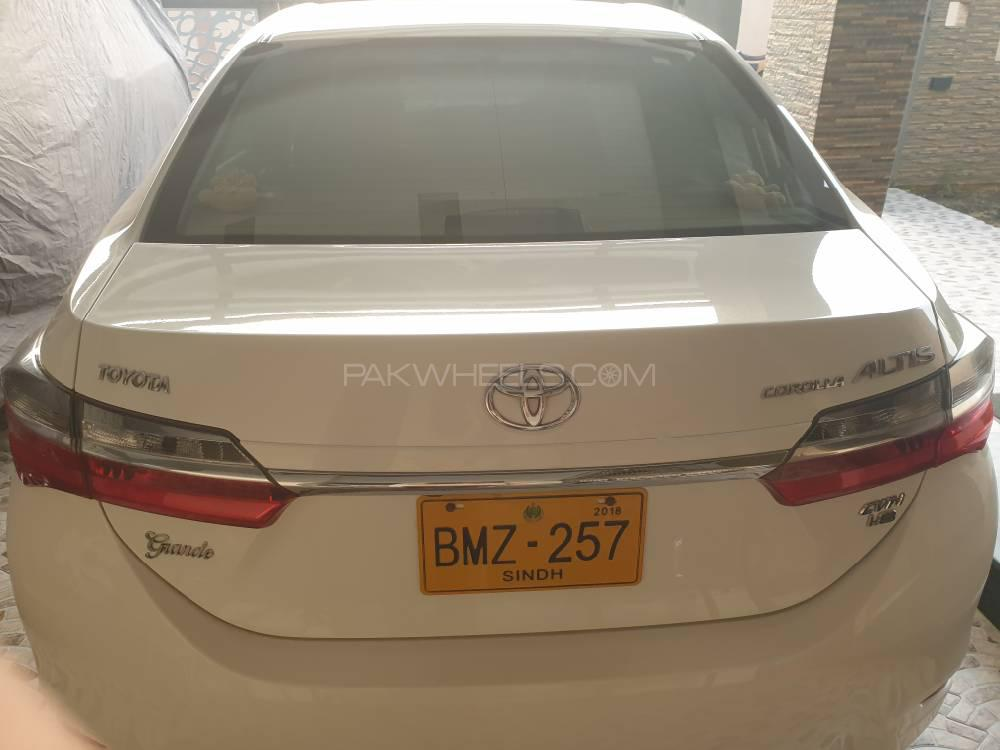license plate: (417, 496, 645, 589)
